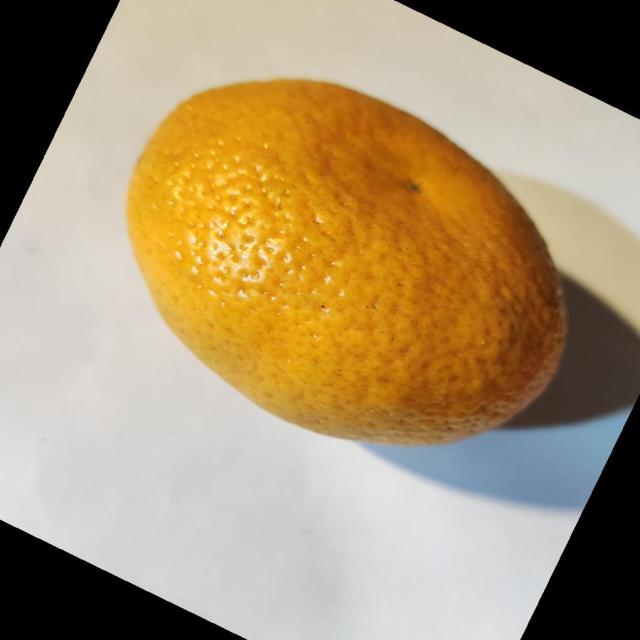fresh orange: (124, 76, 568, 447)
